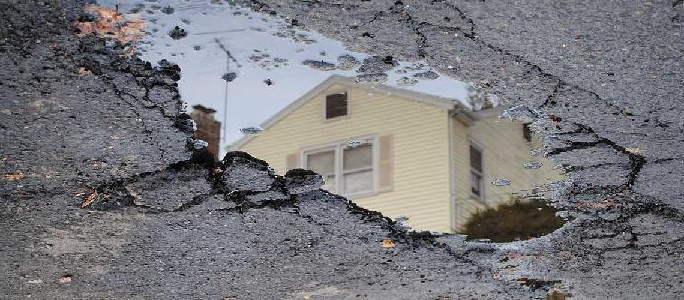pothole: (76, 0, 653, 260)
